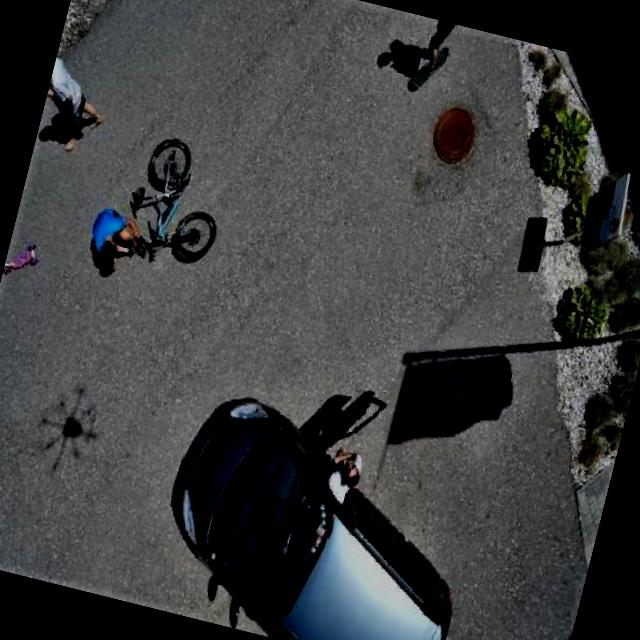Person: (34, 51, 122, 168), (74, 198, 165, 288), (312, 441, 378, 508)
